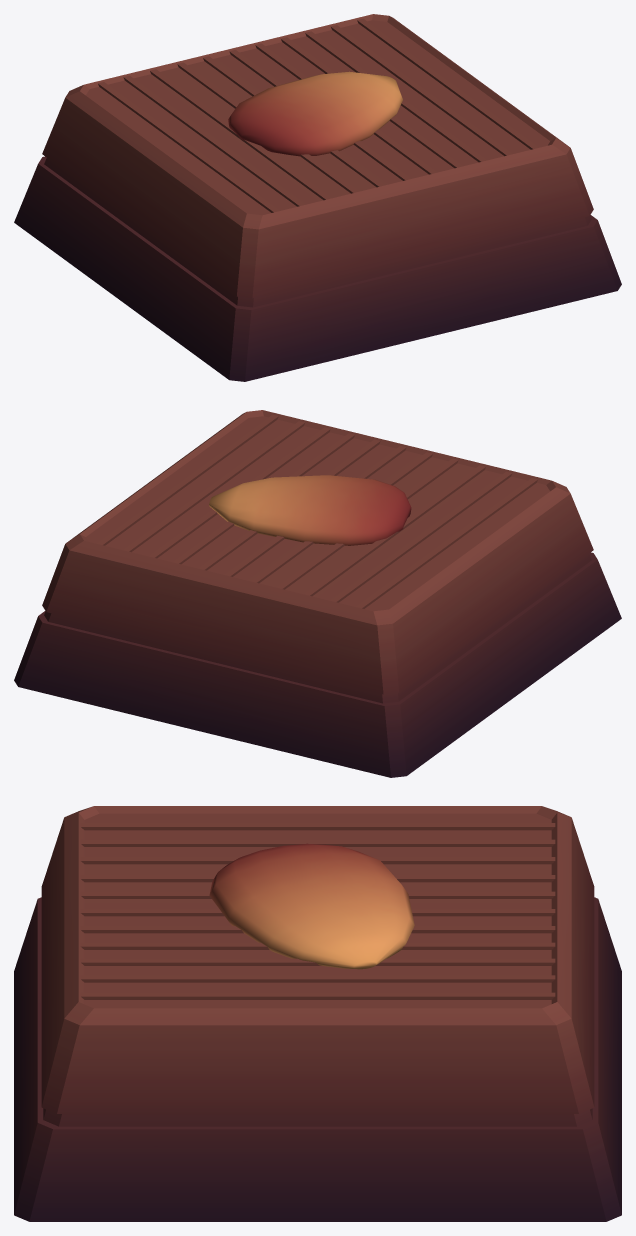
File: W2_OBSTACLE_3.fbx
The picture shows the model from 3 angles, top to bottom: view 1: azimuth 30°, elevation 25°; view 2: azimuth 150°, elevation 25°; view 3: azimuth 270°, elevation 25°; orthographic projection. The views are drawn at different scales.
Parts seen in each view (by area): view 1: W2_OBSTACLE_3; view 2: W2_OBSTACLE_3; view 3: W2_OBSTACLE_3.
Boxes of the visible parts, x1,y1,x2,y2 form: W2_OBSTACLE_3: [14, 14, 621, 381]; W2_OBSTACLE_3: [14, 410, 621, 777]; W2_OBSTACLE_3: [14, 806, 621, 1221].
Size of the model in its own units: 500 by 194 by 500.
